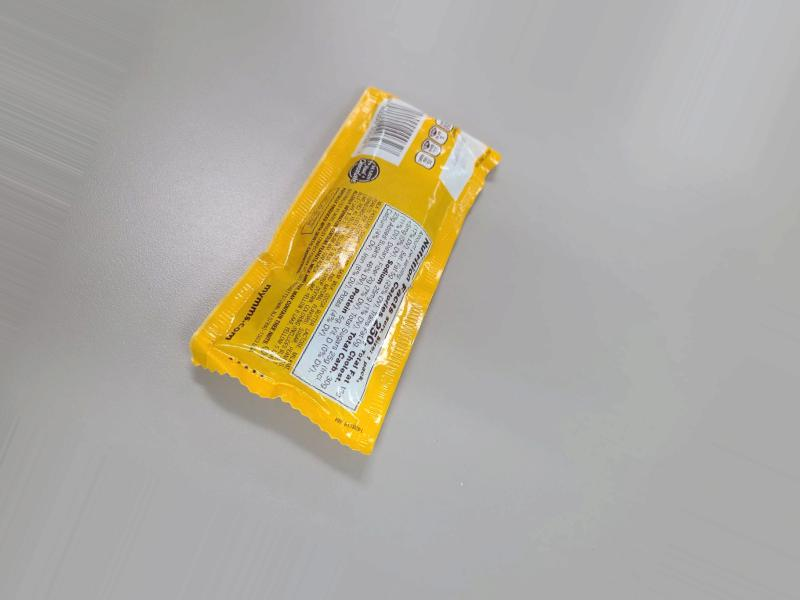m&m: (189, 80, 498, 466)
